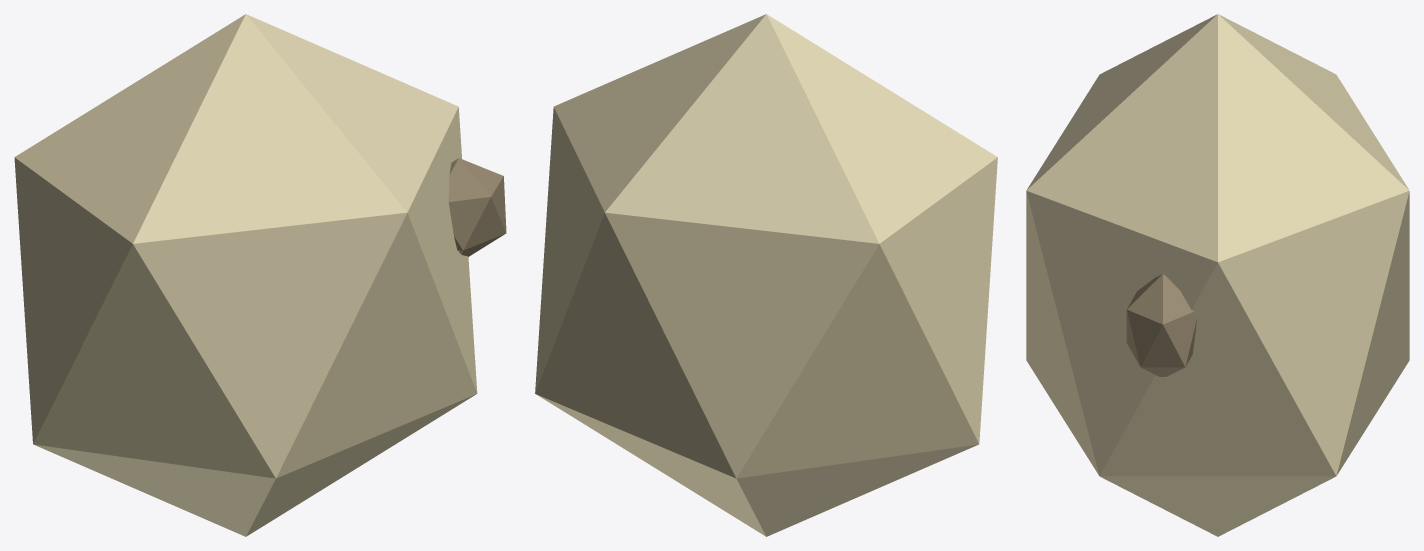
Rendered from fish_004_reef_butterflyfish__egg.glb.
3 views of the same model, side by side, from view 1: azimuth 30°, elevation 25°; view 2: azimuth 150°, elevation 25°; view 3: azimuth 270°, elevation 25° (orthographic).
Parts seen in each view (by area): view 1: fish_004_reef_butterflyfish__egg__shell, fish_004_reef_butterflyfish__egg__embryo_mark; view 2: fish_004_reef_butterflyfish__egg__shell; view 3: fish_004_reef_butterflyfish__egg__shell, fish_004_reef_butterflyfish__egg__embryo_mark.
Part boxes in pixels (x1,y1,x2,y2): fish_004_reef_butterflyfish__egg__shell: (14,14,477,536); fish_004_reef_butterflyfish__egg__embryo_mark: (448,158,506,256); fish_004_reef_butterflyfish__egg__shell: (535,14,997,536); fish_004_reef_butterflyfish__egg__shell: (1026,14,1409,536); fish_004_reef_butterflyfish__egg__embryo_mark: (1126,274,1197,376).
Size of the model in its own units: 0.00261 by 0.00294 by 0.00195.
